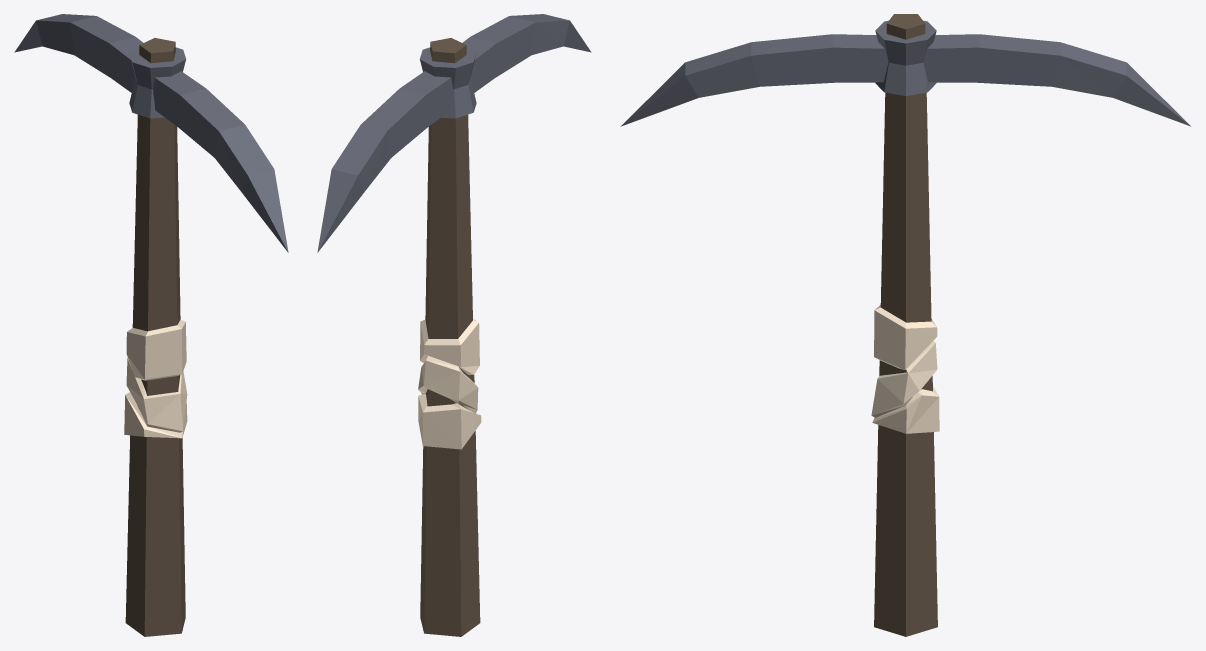
The model's file is _pick_1.fbx.
3 renders of one model, left to right at view 1: azimuth 30°, elevation 25°; view 2: azimuth 150°, elevation 25°; view 3: azimuth 270°, elevation 25°, orthographic. The views are drawn at different scales.
Visible parts, largest first — view 1: pick_1; view 2: pick_1; view 3: pick_1.
Part boxes in pixels (x1,y1,x2,y2): pick_1: [14, 14, 288, 636]; pick_1: [317, 14, 591, 636]; pick_1: [621, 14, 1190, 636].
Bounding box in the file's own units: 9.91 × 99.27 × 85.36.
